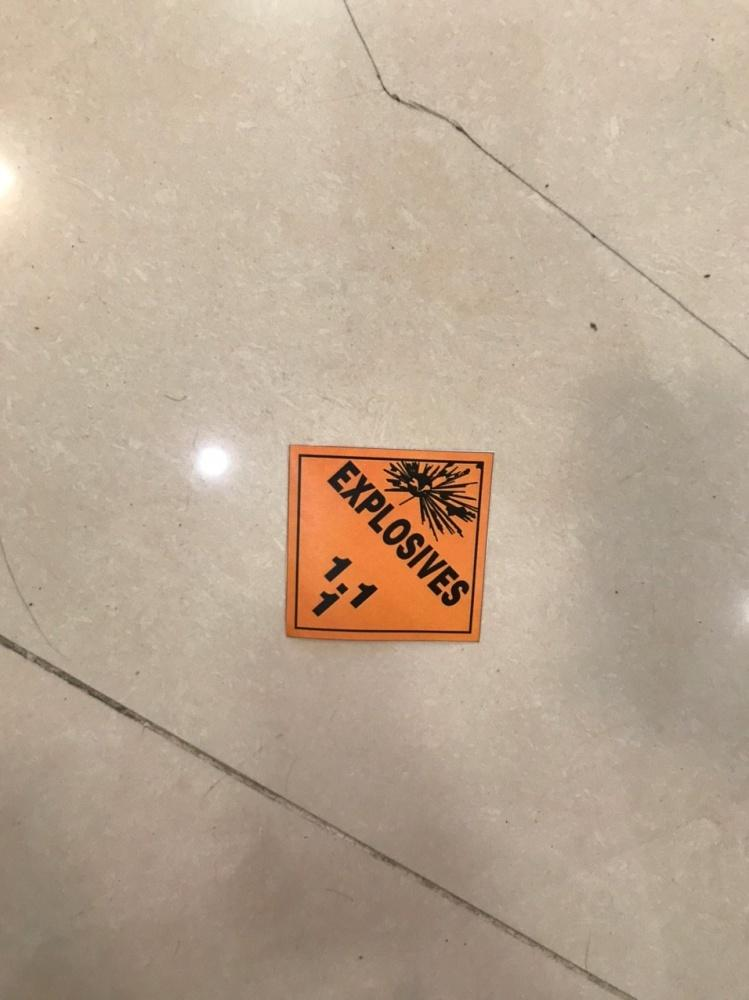explosive: (281, 443, 499, 650)
